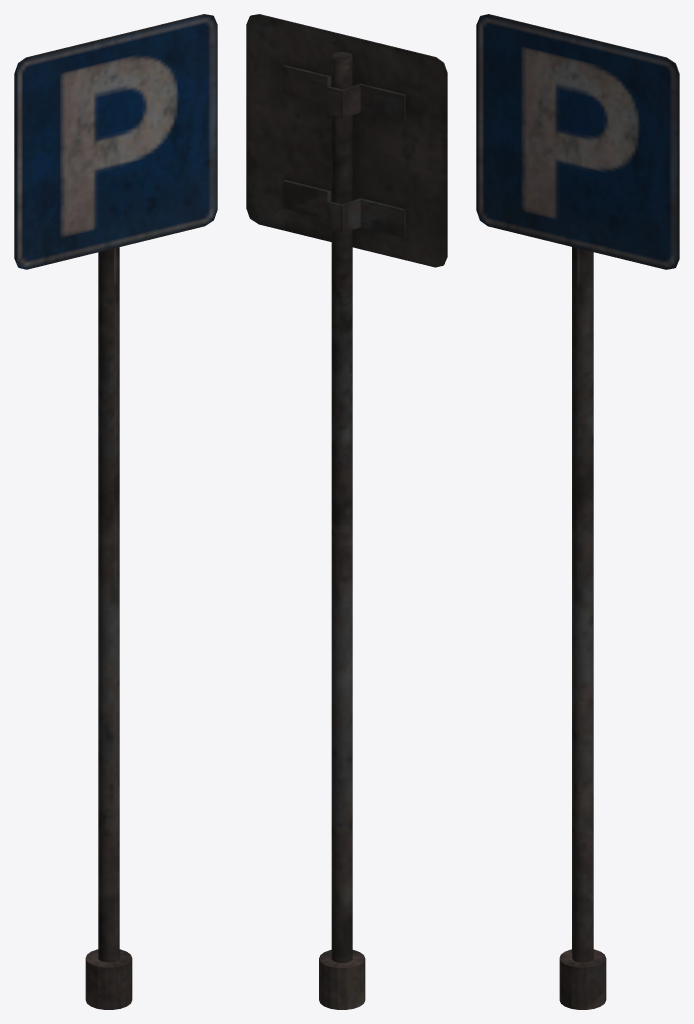
Rendered from ROAD SIGN 4.fbx.
3 views of the same model, side by side, from view 1: azimuth 30°, elevation 25°; view 2: azimuth 150°, elevation 25°; view 3: azimuth 330°, elevation 25° (orthographic).
Visible parts, largest first — view 1: ROAD SIGN 4; view 2: ROAD SIGN 4; view 3: ROAD SIGN 4.
Boxes of the visible parts, <box> form: ROAD SIGN 4: <box>14,14,217,1009</box>; ROAD SIGN 4: <box>246,14,447,1009</box>; ROAD SIGN 4: <box>476,14,679,1009</box>.
Bounding box in the file's own units: 75.82 × 347 × 15.15.
